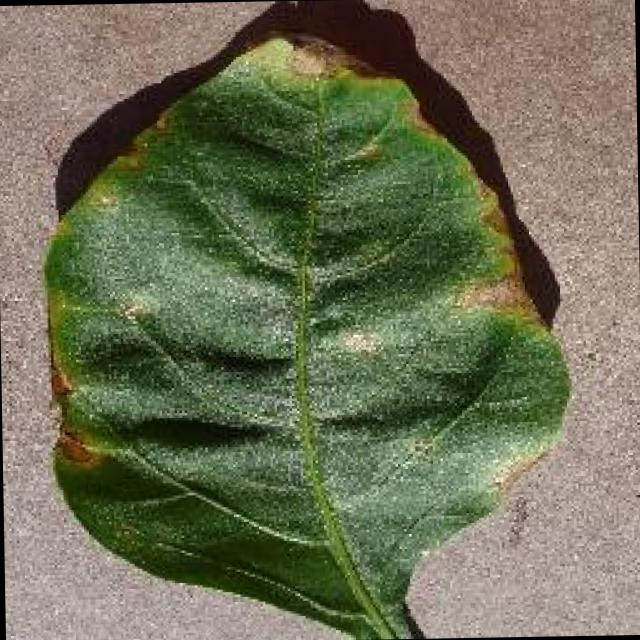Chilli_Bacterial_Spot: (32, 20, 578, 640), (280, 32, 343, 83), (52, 424, 98, 467), (335, 324, 386, 360), (109, 138, 147, 176), (347, 134, 388, 166), (115, 295, 153, 326), (46, 364, 74, 400), (149, 106, 172, 136)
